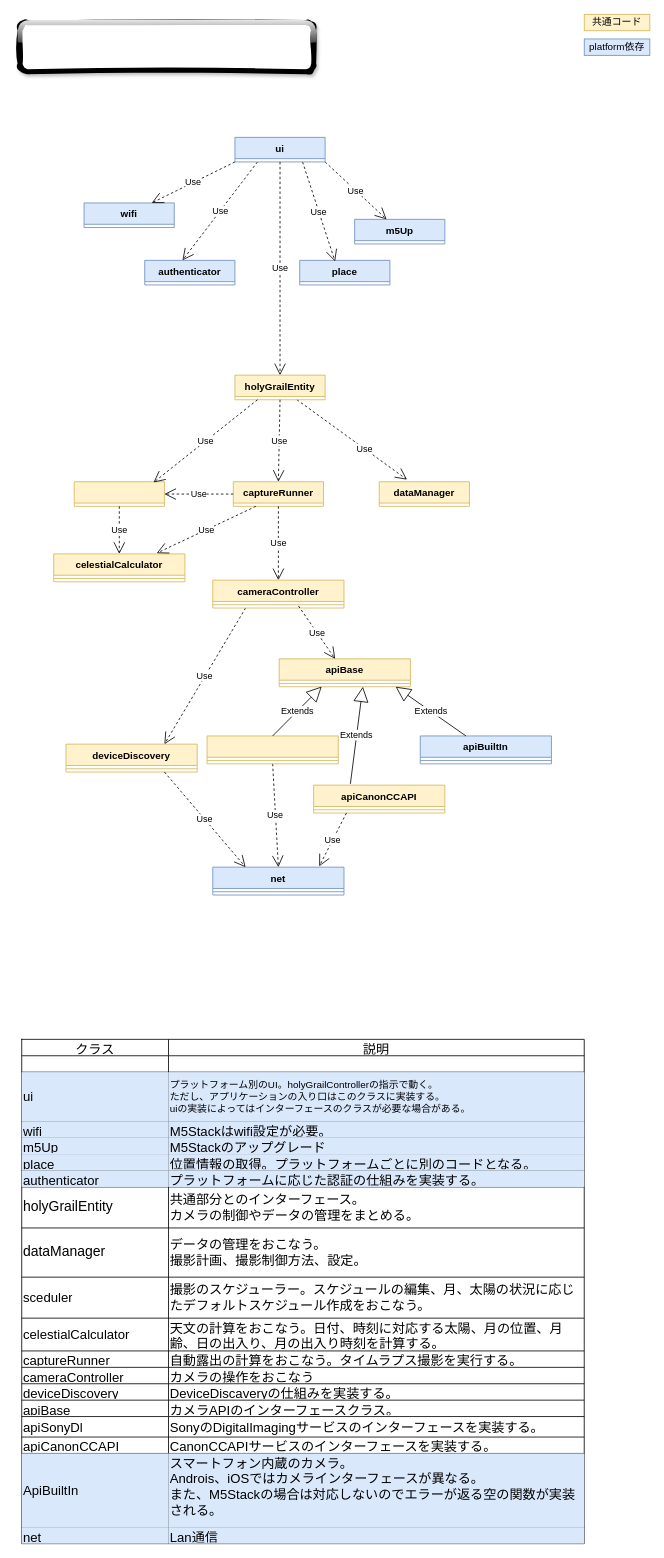
The diagram is 664 pixels wide and 1558 high, and some of its shapes have lost their labels. Each missing label, with the centre of its shape:
apiSonyDI: the point at 272,749
Holy Grail Controller: the point at 167,48
scheduler: the point at 118,493
